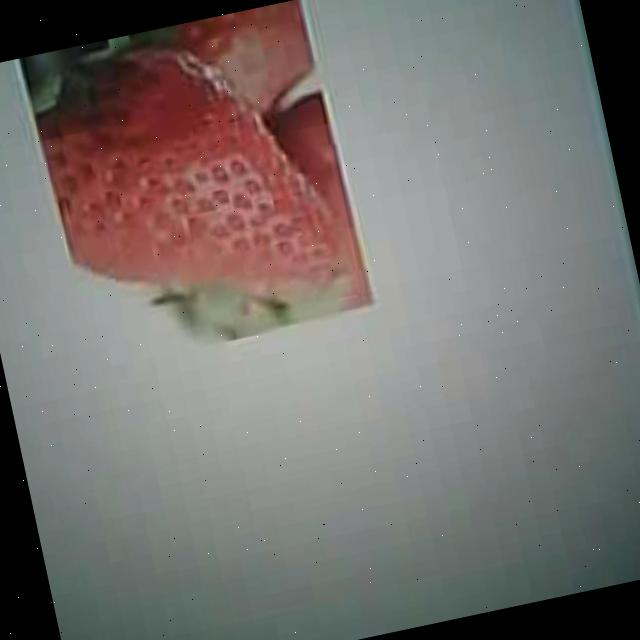strawberry: (25, 2, 348, 336)
